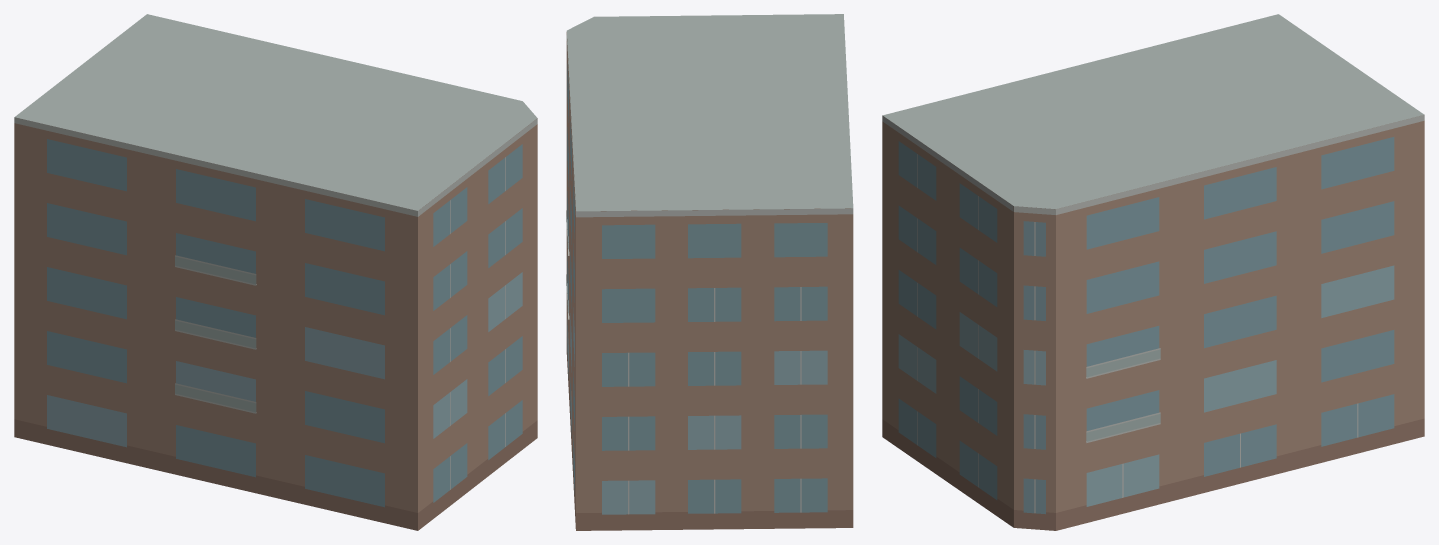
Rendered from survey-upis-32762786.glb.
3 renders of one model, left to right at view 1: azimuth 30°, elevation 25°; view 2: azimuth 150°, elevation 25°; view 3: azimuth 270°, elevation 25°, orthographic.
Visible parts, largest first — view 1: survey-upis-32762786.tmp; view 2: survey-upis-32762786.tmp; view 3: survey-upis-32762786.tmp.
Part boxes in pixels (x1,y1,x2,y2): survey-upis-32762786.tmp: (14, 14, 537, 530); survey-upis-32762786.tmp: (566, 14, 853, 530); survey-upis-32762786.tmp: (882, 14, 1424, 530).
Bounding box in the file's own units: 17.05 × 13.1 × 20.01.
